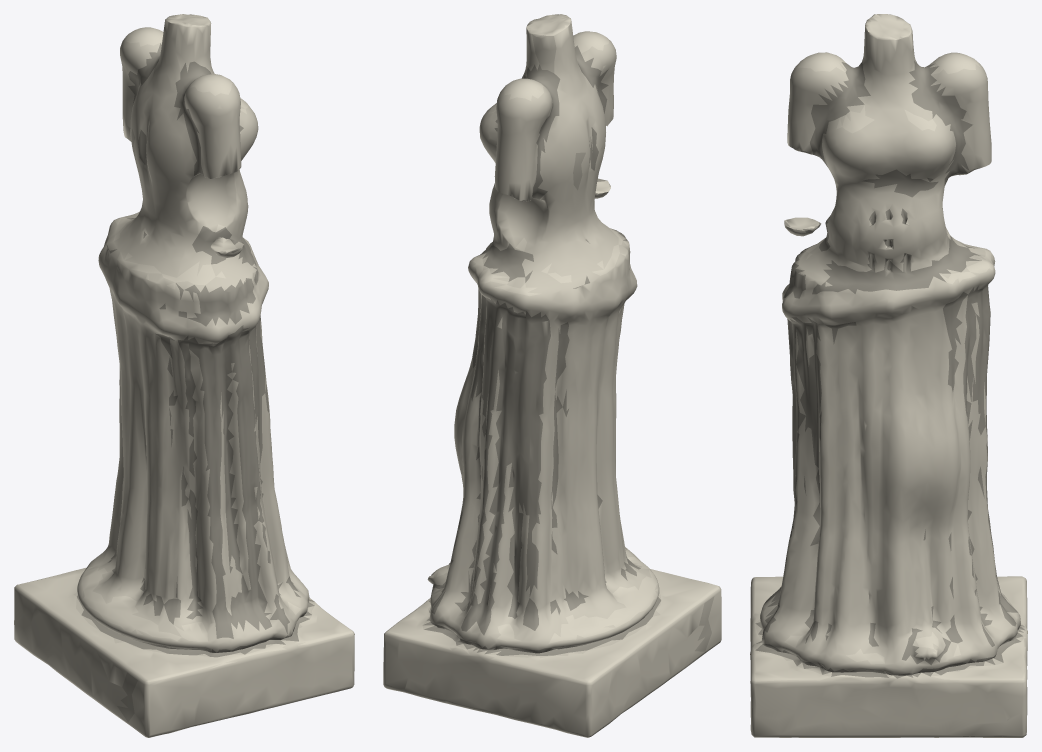
Rendered from greek_torso.glb.
The picture shows the model from 3 angles, left to right: view 1: azimuth 30°, elevation 25°; view 2: azimuth 150°, elevation 25°; view 3: azimuth 270°, elevation 25°; orthographic projection. The views are drawn at different scales.
Visible parts, largest first — view 1: torso; view 2: torso; view 3: torso.
Boxes of the visible parts, x1,y1,x2,y2 form: torso: (14,14,354,737); torso: (383,14,721,737); torso: (750,14,1027,737).
Bounding box in the file's own units: 0.5482 × 1.61 × 0.6073.
